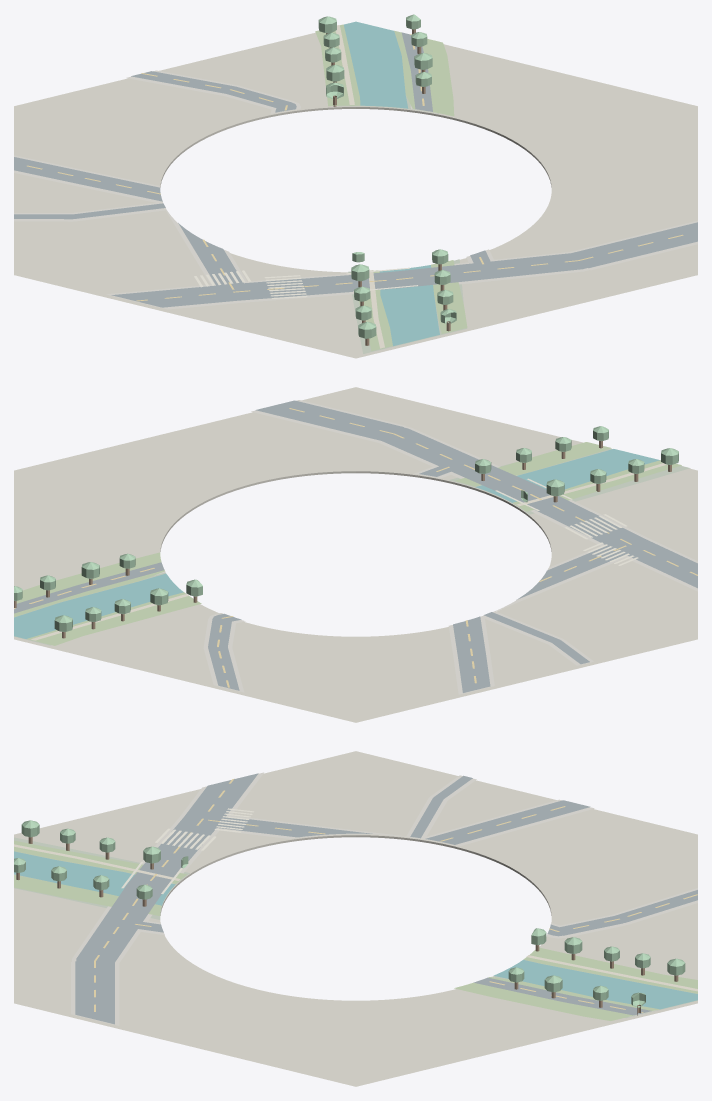
Rendered from surround-X3.glb.
The picture shows the model from 3 angles, top to bottom: view 1: azimuth 30°, elevation 25°; view 2: azimuth 150°, elevation 25°; view 3: azimuth 270°, elevation 25°; orthographic projection.
Visible parts, largest first — view 1: X3_ground, X3_road, X3_water, X3_paving, X3_lawn, X3_leaf, X3_white, X3_yellow, X3_path, X3_bank; view 2: X3_ground, X3_road, X3_lawn, X3_water, X3_paving, X3_leaf, X3_white, X3_bank, X3_yellow, X3_path, X3_trunk; view 3: X3_ground, X3_road, X3_lawn, X3_water, X3_paving, X3_leaf, X3_white, X3_path, X3_bank, X3_yellow, X3_trunk.
Boxes of the visible parts, x1,y1,x2,y2 form: X3_ground: [14, 32, 697, 358]; X3_road: [14, 32, 697, 307]; X3_water: [344, 21, 439, 346]; X3_paving: [14, 70, 697, 309]; X3_lawn: [315, 24, 467, 351]; X3_leaf: [318, 14, 456, 338]; X3_white: [194, 267, 417, 298]; X3_yellow: [27, 34, 683, 301]; X3_path: [336, 25, 384, 348]; X3_bank: [338, 95, 467, 353]; X3_ground: [14, 387, 697, 722]; X3_road: [14, 400, 697, 692]; X3_lawn: [14, 442, 681, 645]; X3_water: [14, 449, 659, 638]; X3_paving: [155, 400, 697, 694]; X3_leaf: [14, 426, 678, 632]; X3_white: [495, 478, 638, 565]; X3_bank: [14, 448, 690, 645]; X3_yellow: [14, 408, 697, 687]; X3_path: [31, 463, 666, 640]; X3_trunk: [14, 441, 671, 638]; X3_ground: [14, 751, 697, 1086]; X3_road: [75, 773, 697, 1024]; X3_lawn: [14, 840, 697, 1020]; X3_water: [14, 851, 697, 1009]; X3_paving: [71, 772, 697, 1025]; X3_leaf: [14, 820, 685, 1007]; X3_white: [121, 808, 253, 893]; X3_path: [14, 844, 697, 991]; X3_bank: [14, 837, 697, 1018]; X3_yellow: [94, 778, 697, 1012]; X3_trunk: [16, 837, 678, 1015].
Size of the model in its own units: 16.16 by 0.5839 by 14.
